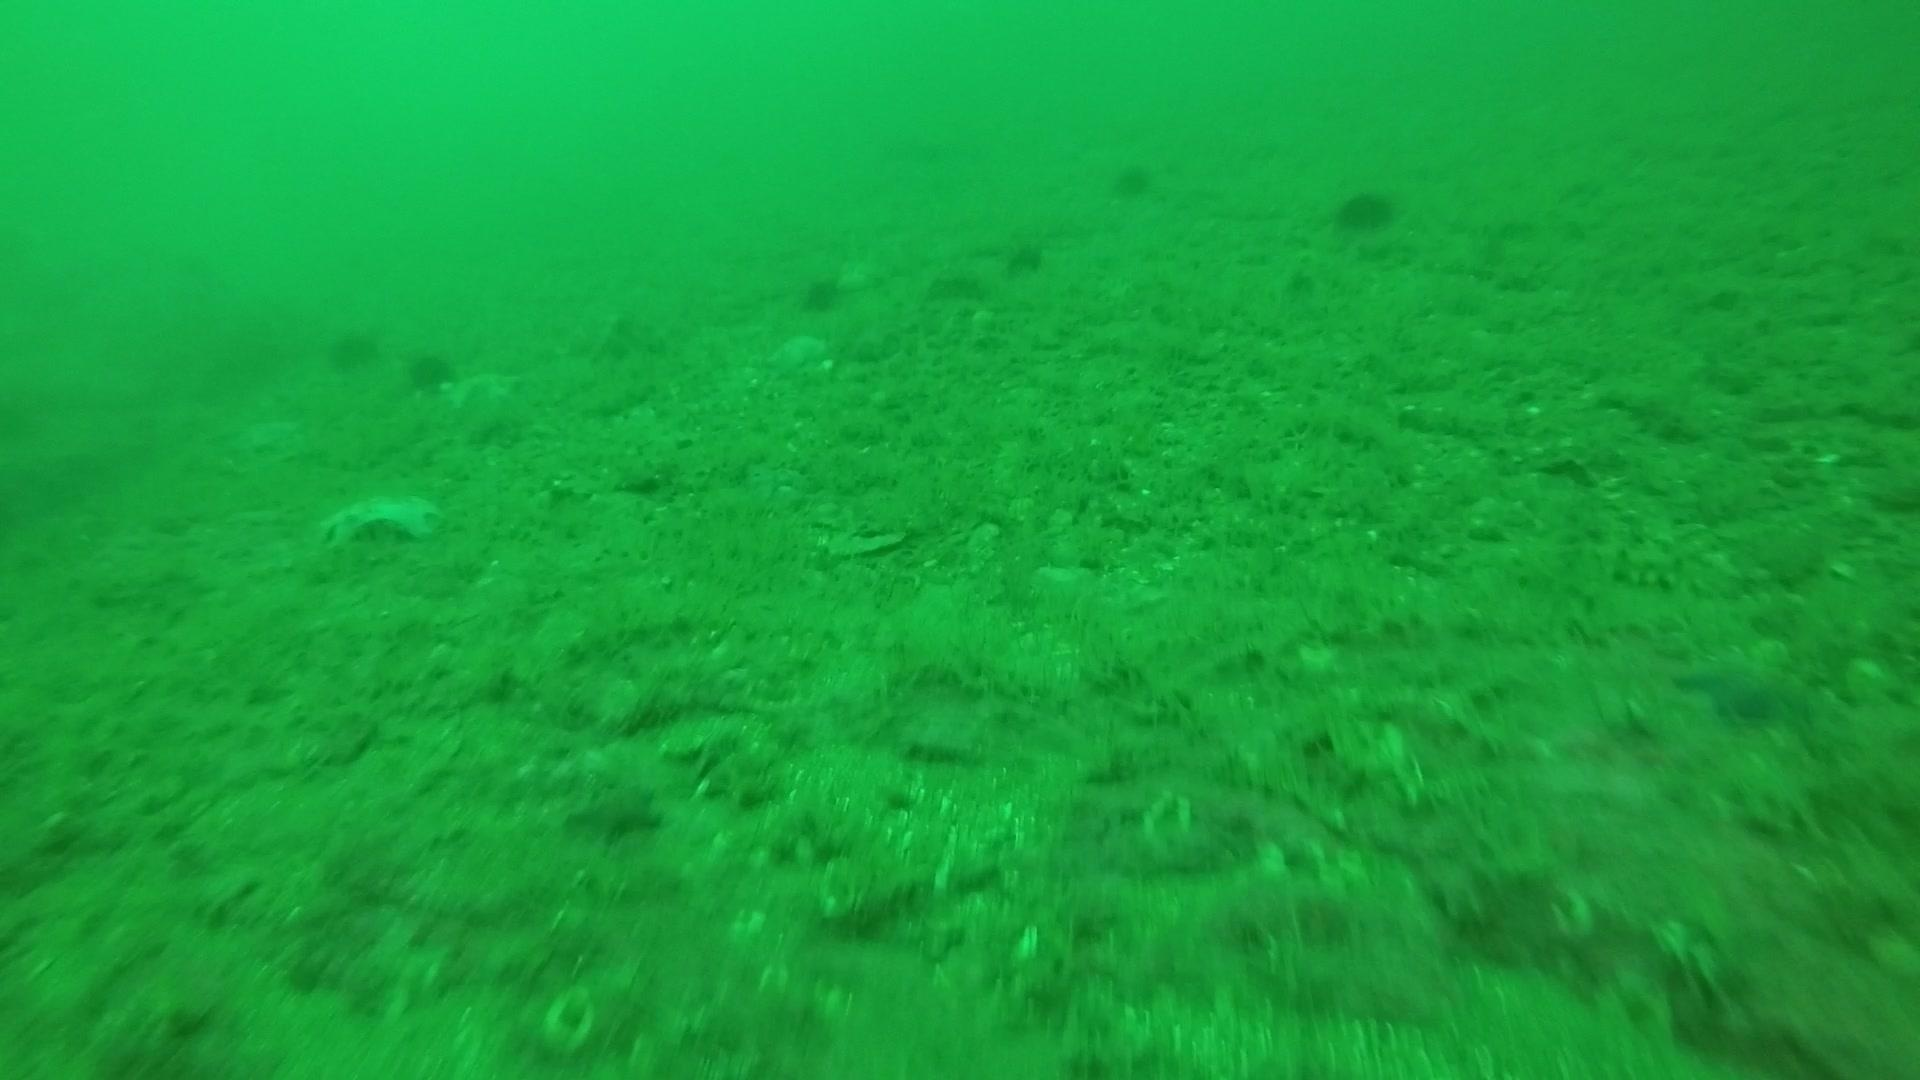echinus: (1329, 179, 1402, 237), (323, 320, 382, 375), (401, 344, 460, 397), (796, 268, 848, 316), (1106, 156, 1158, 202), (1001, 233, 1050, 281)
holothurian: (1604, 545, 1691, 593)
starfish: (1669, 640, 1813, 732), (315, 487, 446, 555), (562, 777, 669, 848), (443, 363, 529, 436), (762, 328, 835, 381)
